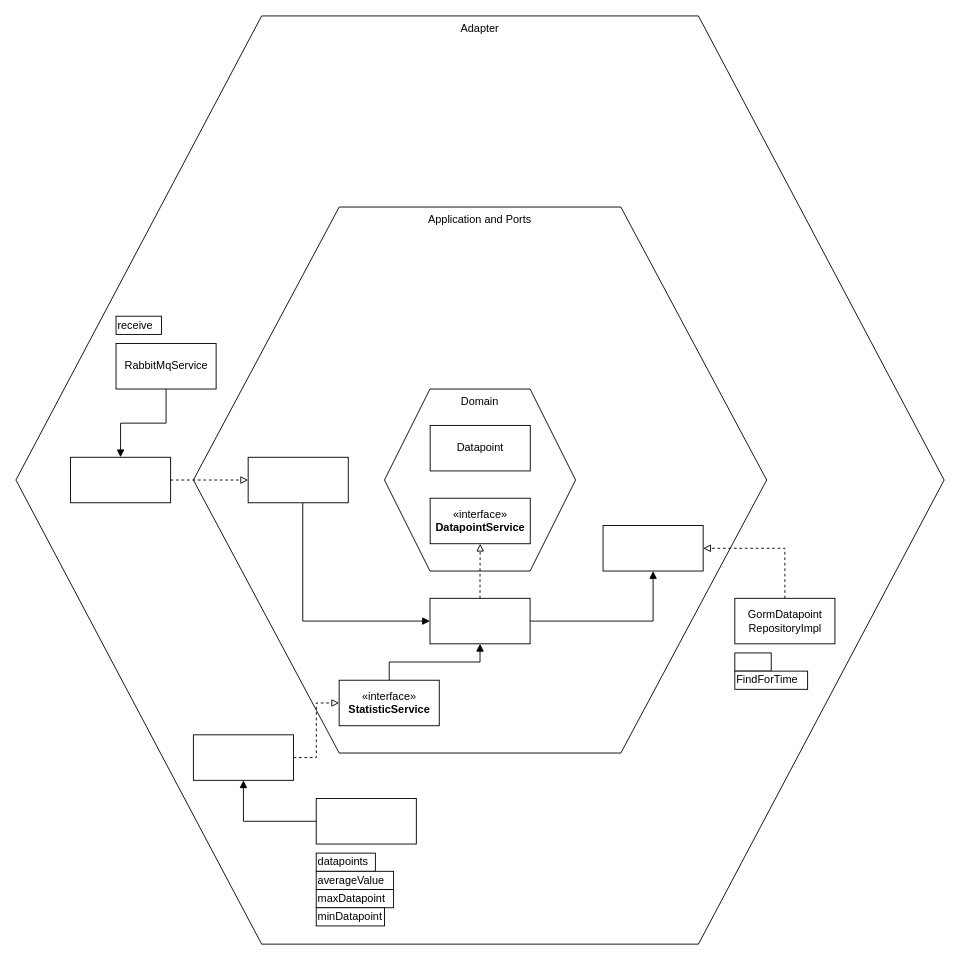
Some shapes in this 960 by 960 pixel diagram are drawn without their labels. Each missing label, with the centre of its shape:
"Datapoint ServiceImpl" goes at pixel 479 620.
"GraphQlService" goes at pixel 365 821.
"RabbitMqDatapoint EventImpl" goes at pixel 120 479.
"Save" goes at pixel 752 661.
"StatisticServiceImpl" goes at pixel 242 757.
"«interface» Datapoint Repository" goes at pixel 652 548.
"«interface» DatapointEvent" goes at pixel 297 479.
